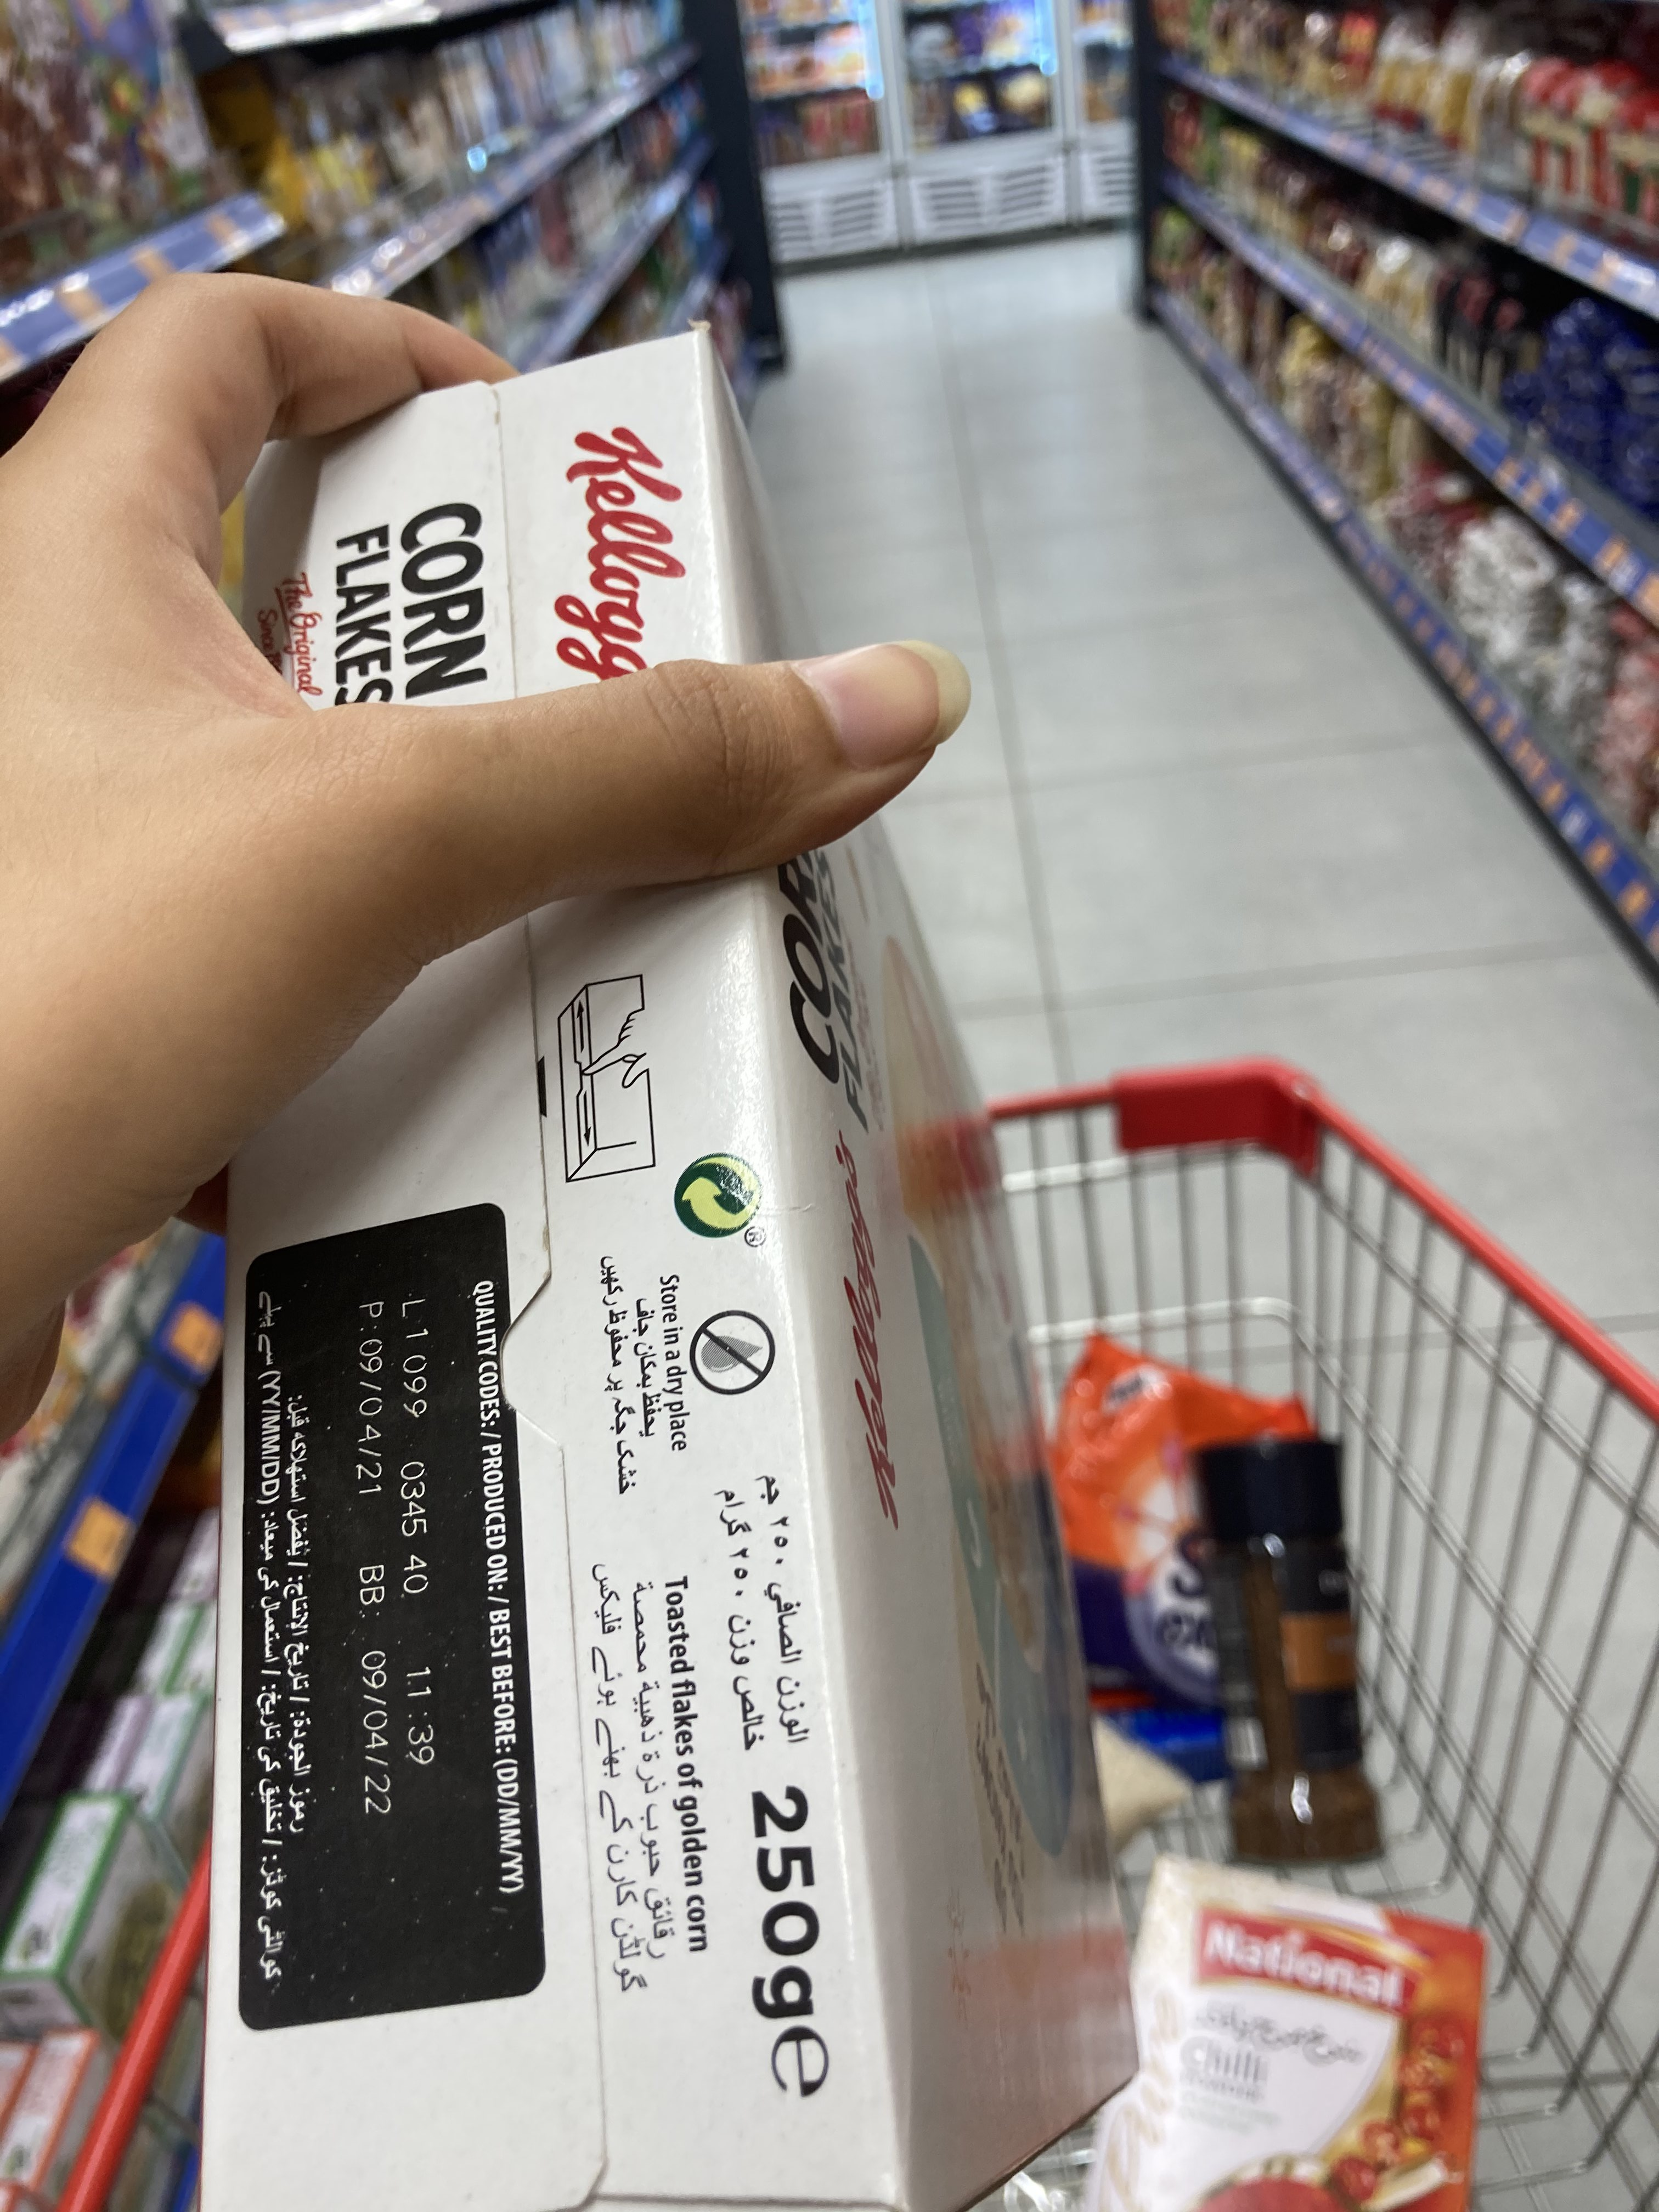Kellogg's Corn Flakes: (193, 324, 1147, 2212)
